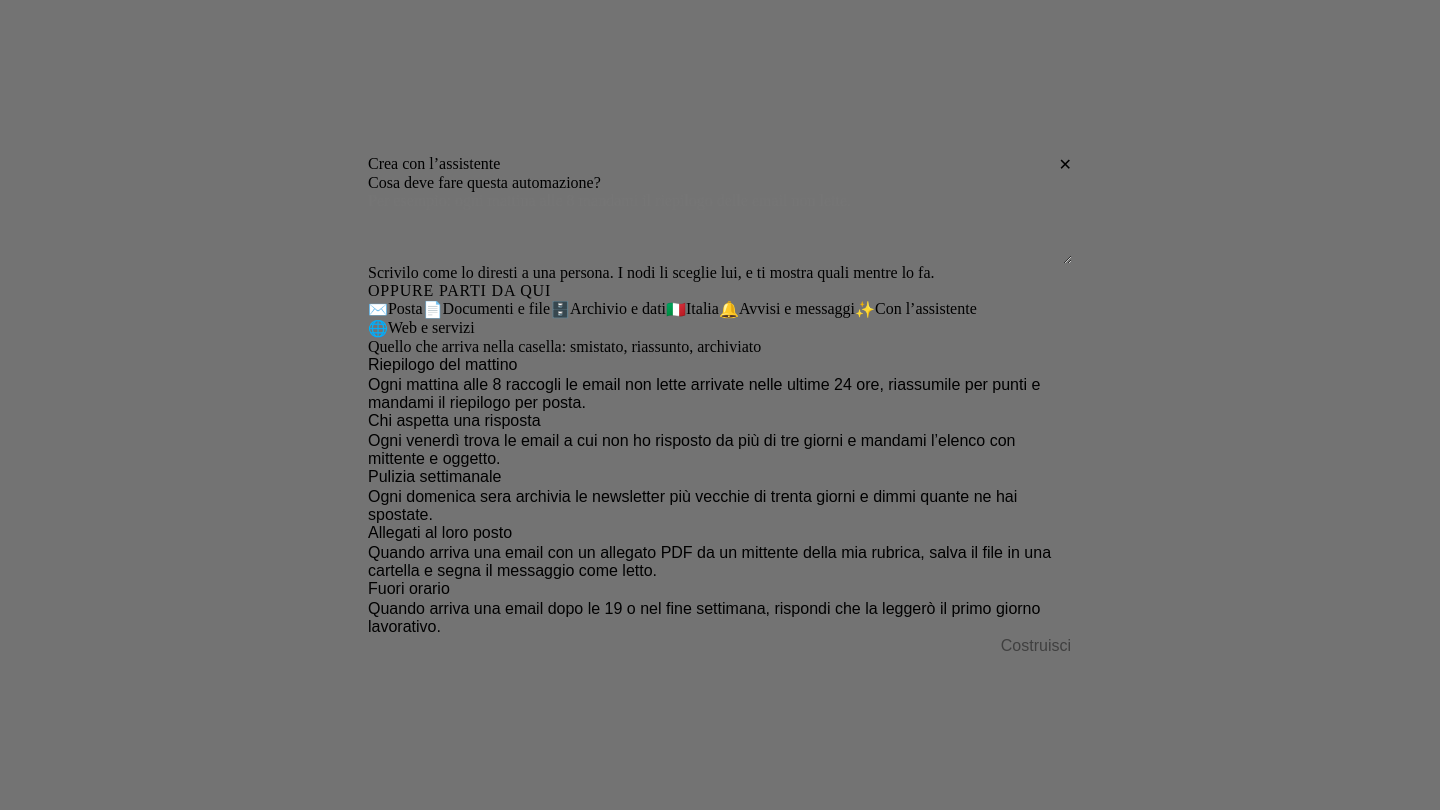
Test: il wizard, montato davvero › un esempio riempie la casella invece di partire da solo
The width and height of the screenshot is (1440, 810).
Click the button "Riepilogo del mattino" at (720, 384), box [368,356,1072,412]
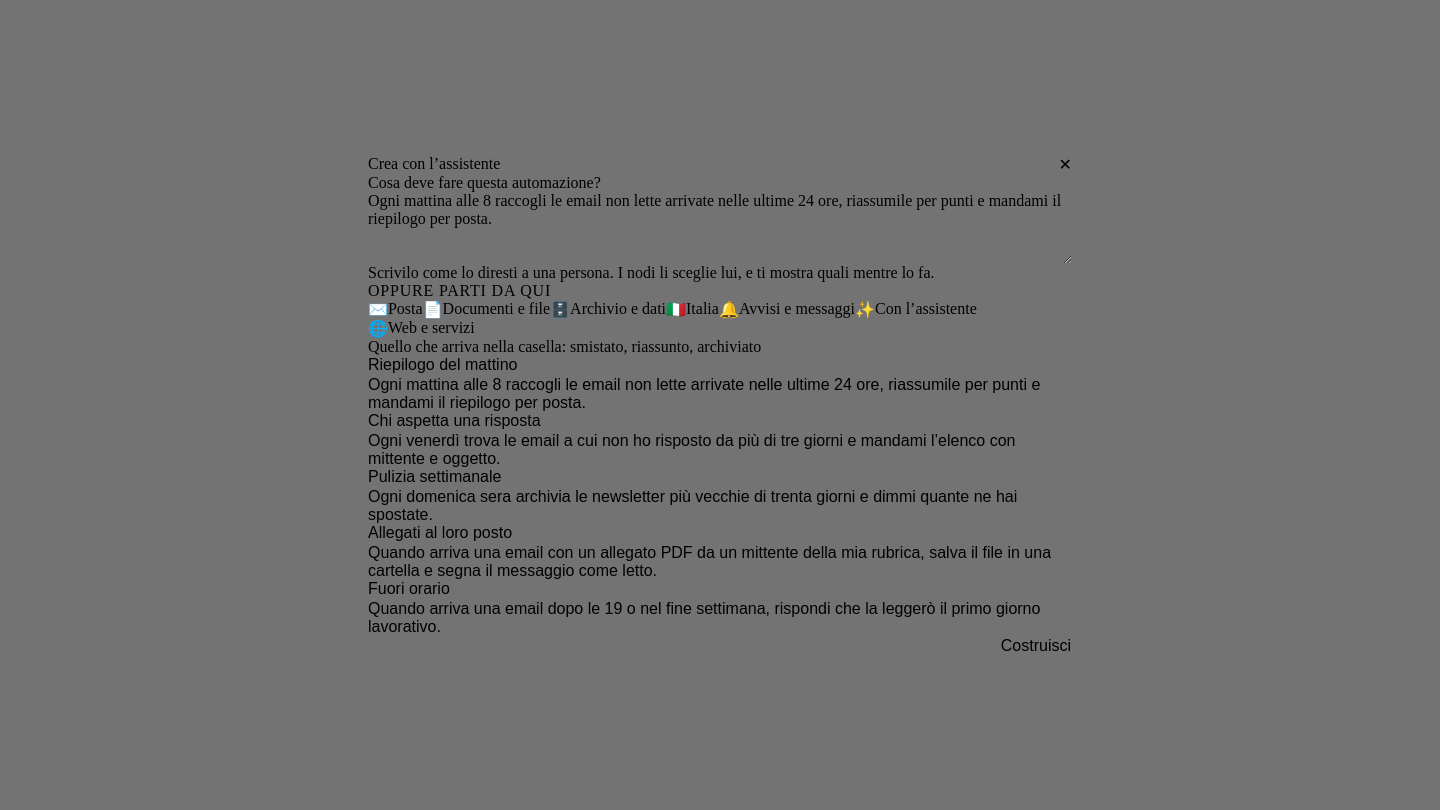
Now the button "Costruisci" is enabled, box [1000,636,1072,656]
